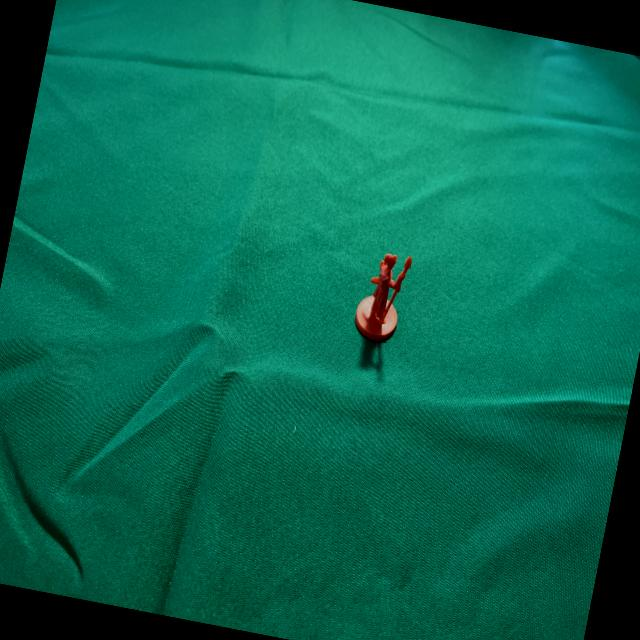amon_follower: (355, 255, 412, 342)
